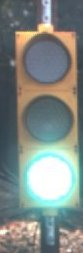Green: (14, 25, 83, 209)
